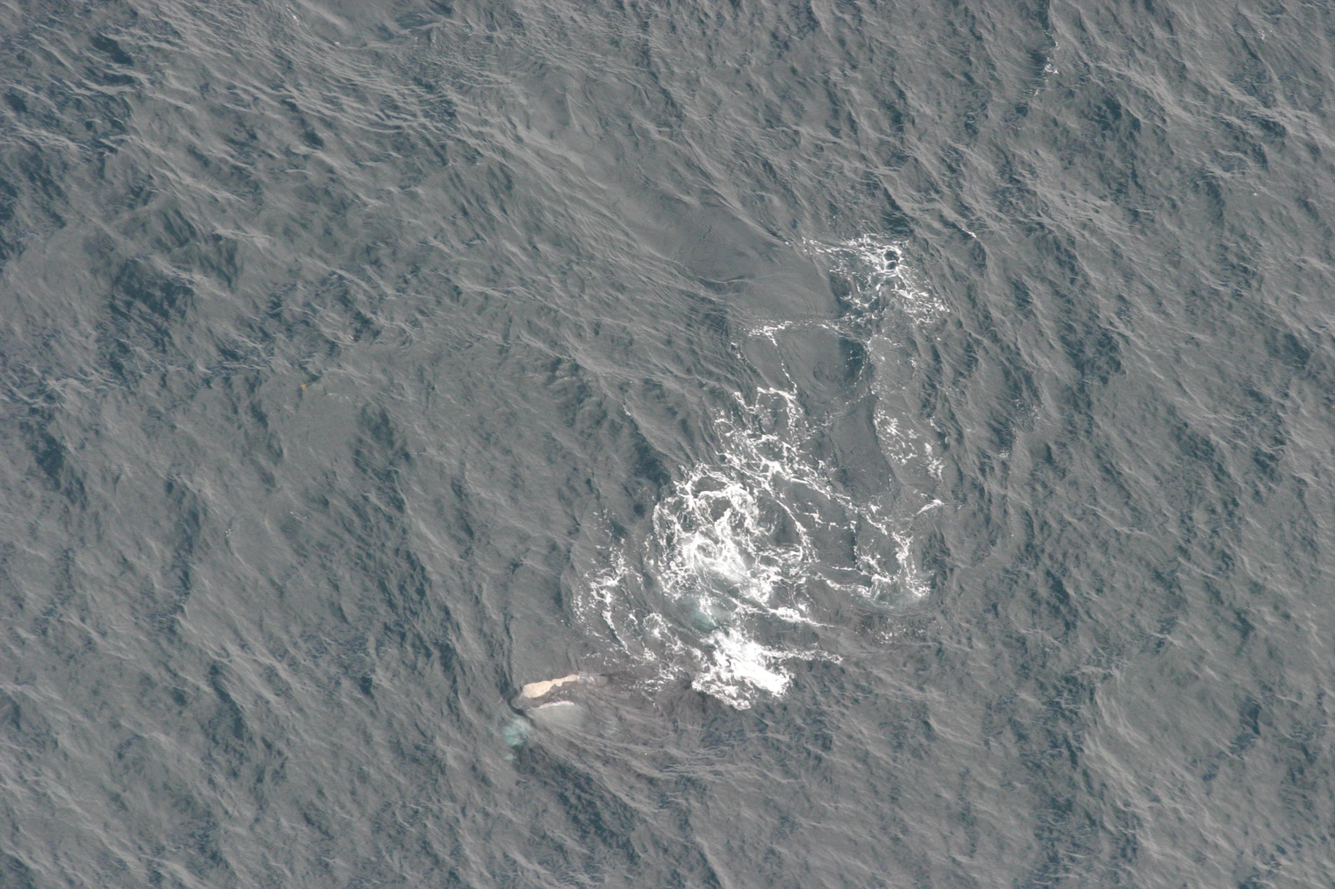whale: (482, 582, 748, 759)
